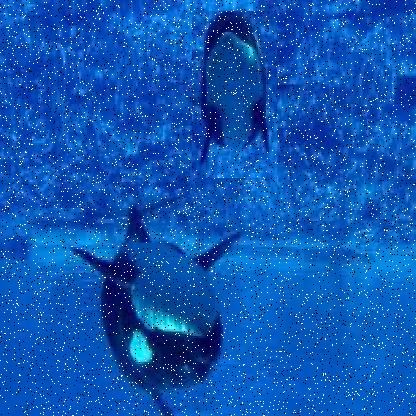killer_whale: (71, 206, 258, 412), (192, 10, 278, 178)
